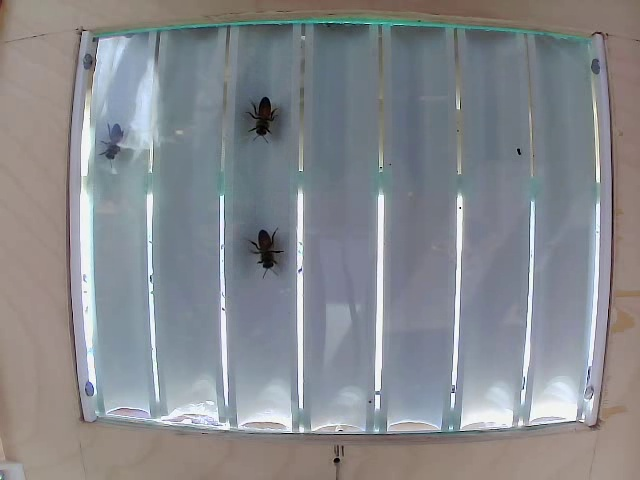bee: (237, 223, 281, 286), (237, 94, 283, 142)
